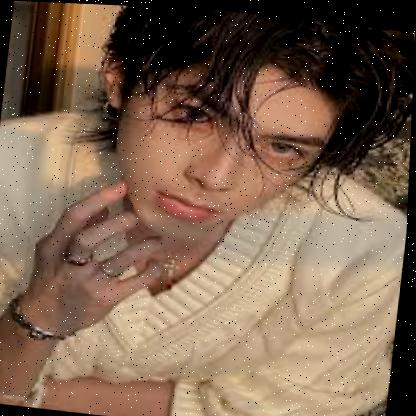person: (77, 4, 416, 259)
